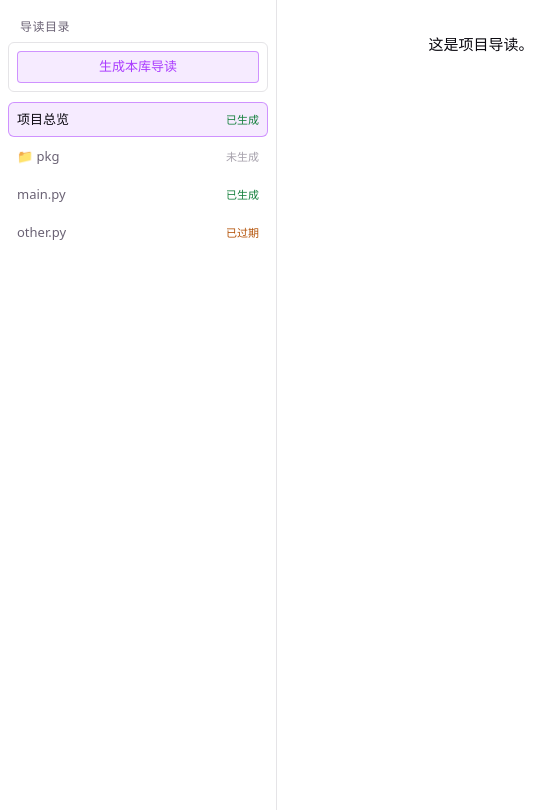
it: GuidePage — 批量生成（Stage 8） › 生成中显示进度（N/M + 当前目标）并可中止
This screenshot has width=541, height=810.
Click the button "生成本库导读": (138, 67) [17, 51, 259, 83]
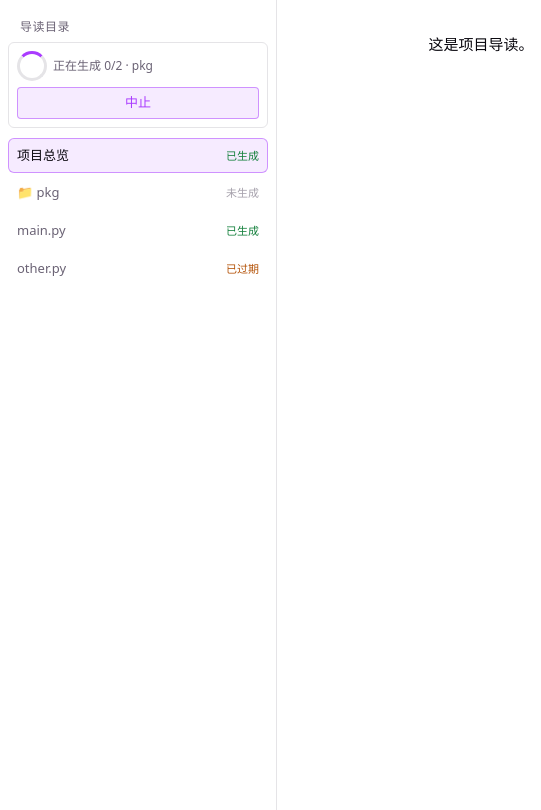
Check: the element with class "guide-batch-progress" shows "正在生成 0/2", box [17, 51, 153, 81]
Check: the element with class "guide-batch-progress" shows "pkg", box [122, 57, 153, 74]
// 中止 → 回到按钮态，且第二个目标未发起
Click the button "中止": (138, 103) [17, 87, 259, 119]
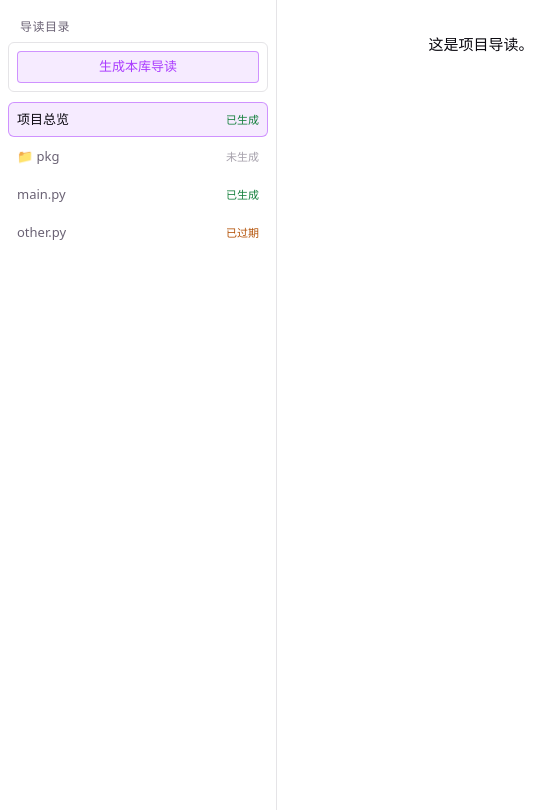
Check: the button "生成本库导读" is shown, box [17, 51, 259, 83]
